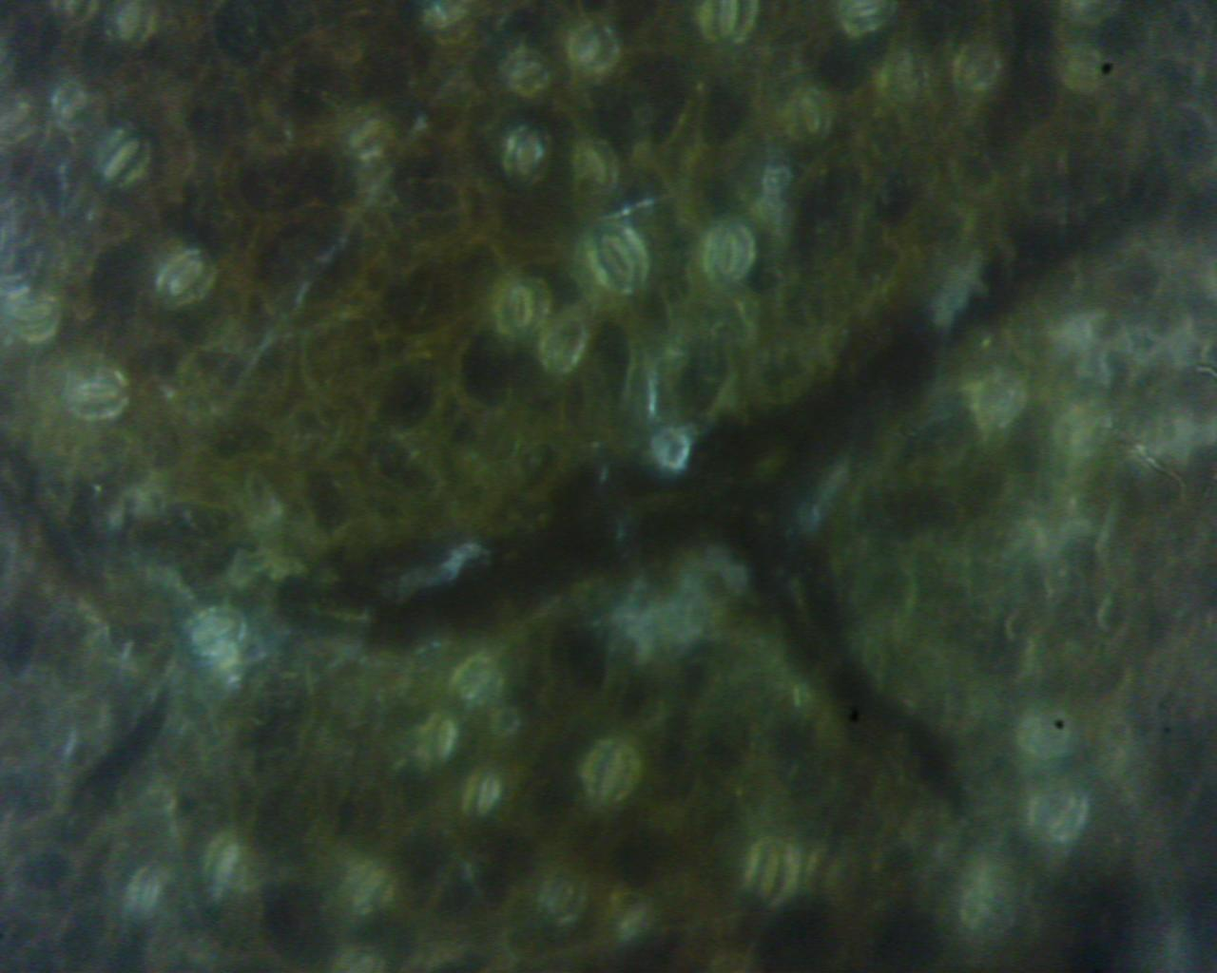stomata: (68, 366, 130, 426), (588, 742, 639, 811), (705, 225, 753, 287), (501, 281, 552, 339), (504, 127, 553, 187), (96, 136, 147, 192), (597, 229, 643, 290), (1022, 712, 1078, 762), (751, 840, 794, 905), (10, 293, 61, 344), (977, 379, 1025, 433), (181, 611, 242, 652), (466, 769, 512, 823), (168, 254, 209, 311), (789, 90, 832, 143), (1033, 791, 1080, 839), (427, 713, 468, 768), (503, 54, 551, 99), (1058, 47, 1107, 91), (573, 27, 621, 69), (211, 835, 245, 894), (349, 863, 389, 913), (577, 142, 618, 190), (1061, 410, 1107, 449), (345, 116, 388, 157), (132, 867, 165, 920), (58, 85, 98, 126), (545, 879, 583, 922), (459, 664, 498, 701), (958, 50, 994, 87)
